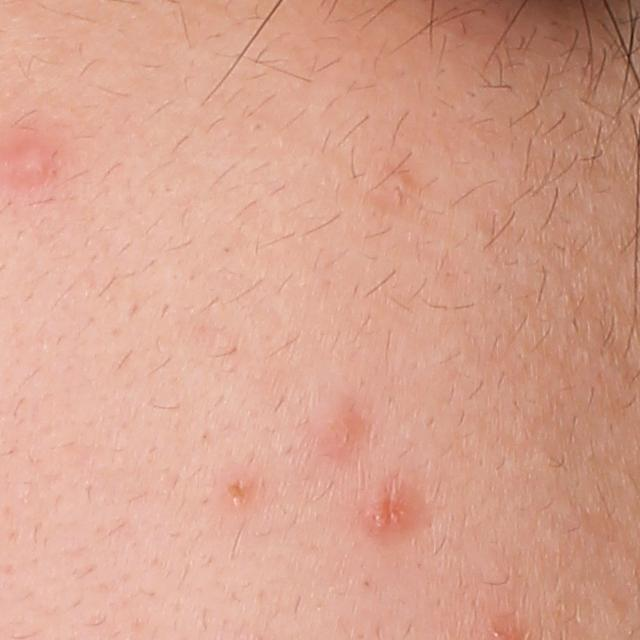papule: (356, 481, 425, 540), (314, 398, 365, 459), (8, 137, 61, 187), (215, 471, 258, 512)
